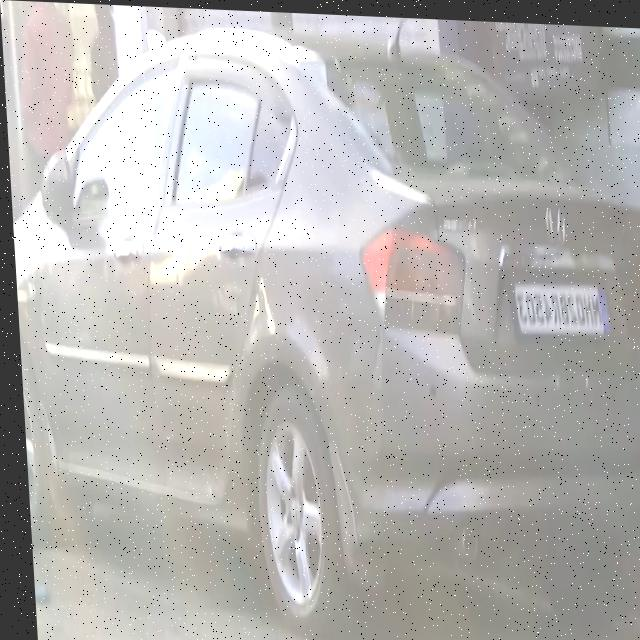plate: (509, 274, 605, 332)
